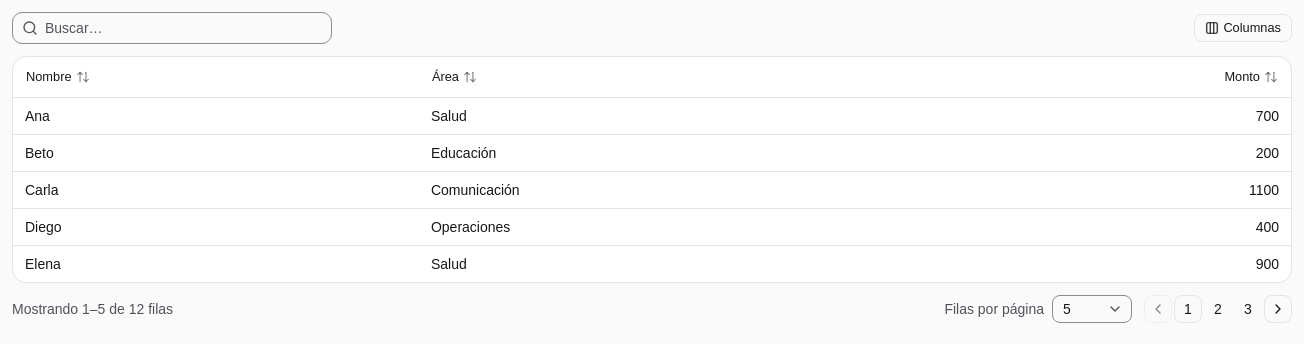
DataTable › filtra con el buscador y muestra el estado vacío
Step 1. Type "ana" into the search field named "Buscar en la tabla" → {"x": 172, "y": 28}, box x1=12 y1=12 x2=332 y2=44
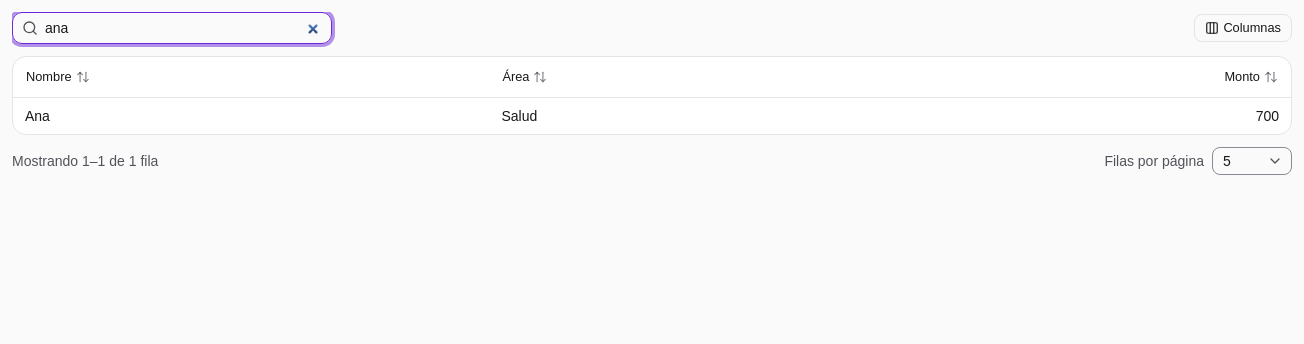
Check: the text "Ana" is shown, box x1=13 y1=98 x2=489 y2=134
Check: the text "Beto" is gone
Check: the text "Mostrando 1–1 de 1 fila" is shown, box x1=12 y1=150 x2=158 y2=170
Step 2. Replace the text in the search field named "Buscar en la tabla" with "zzz" → {"x": 172, "y": 28}, box x1=12 y1=12 x2=332 y2=44
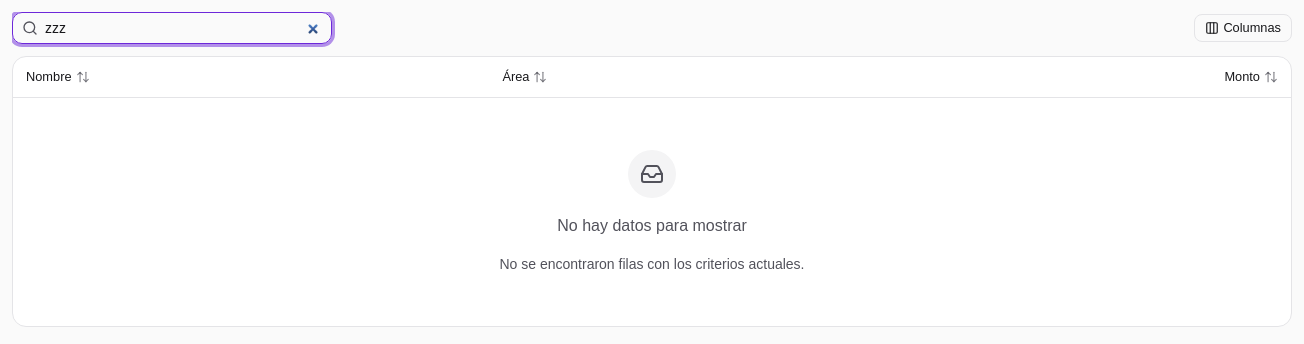
Check: the text "Mostrando" is not shown
Check: the heading "No hay datos para mostrar" is shown, box x1=557 y1=214 x2=747 y2=238
